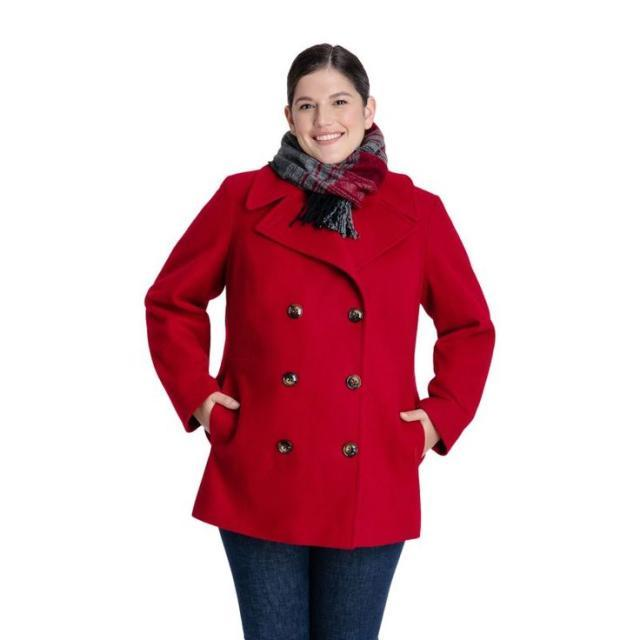coat: (139, 159, 499, 549)
trousers: (216, 523, 410, 640)
